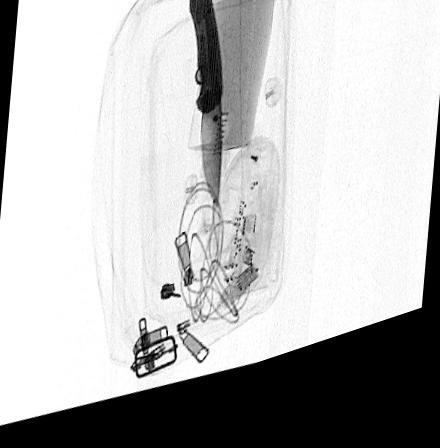Knife: (187, 0, 223, 227)
